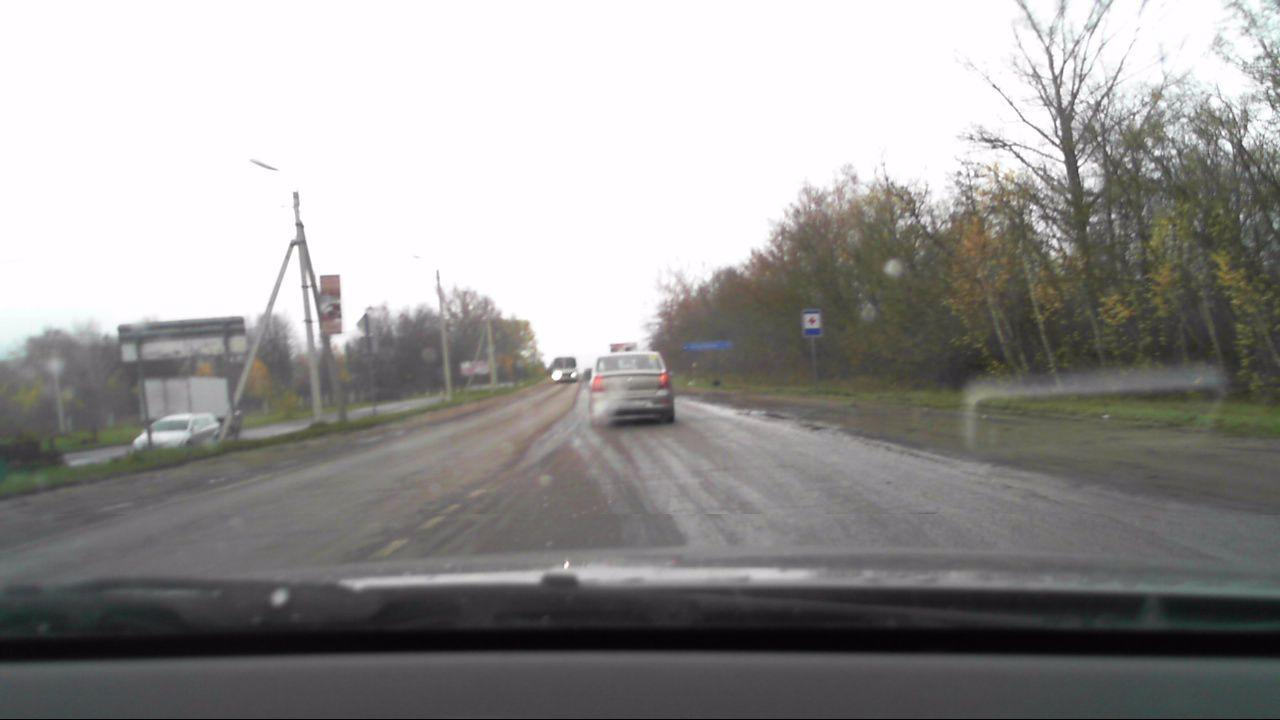7_1: (802, 309, 821, 336)
